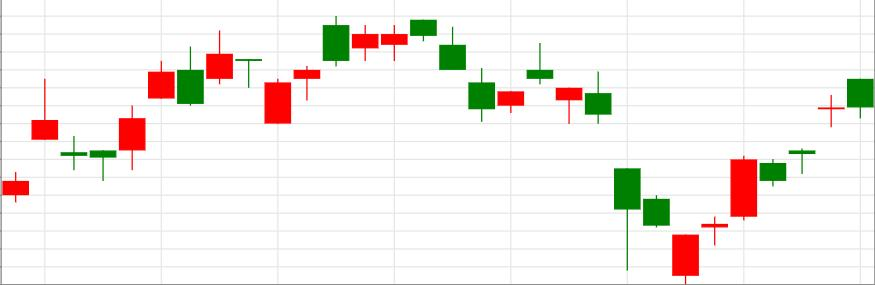hammer_rise: (526, 43, 641, 271)
